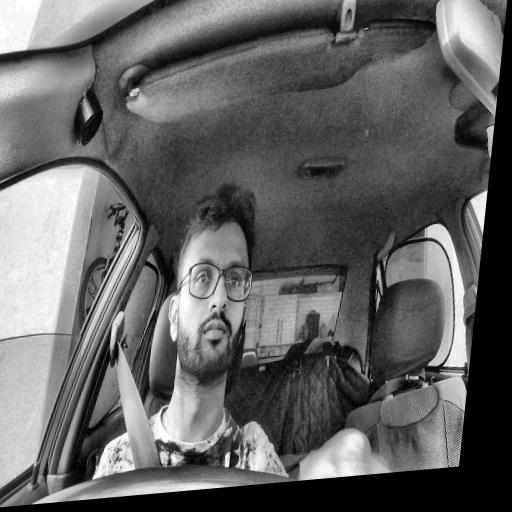awake: (160, 177, 263, 389)
